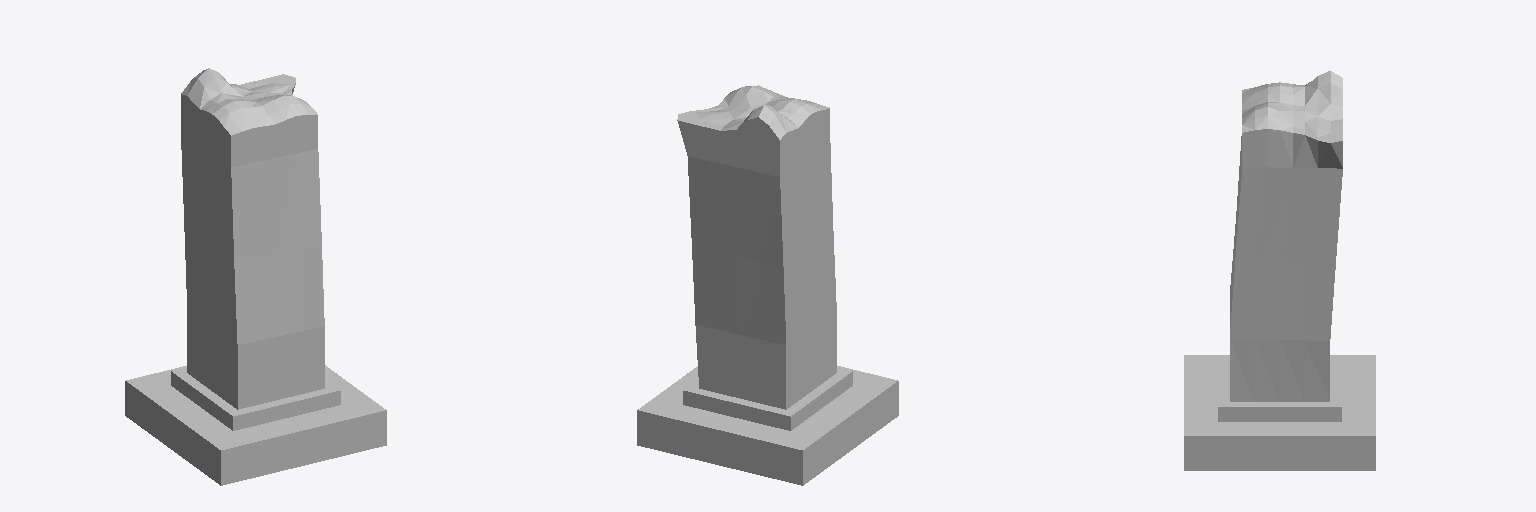
File: Pillar_BrokenMed_Blockour.obj
The picture shows the model from 3 angles: view 1: azimuth 30°, elevation 25°; view 2: azimuth 150°, elevation 25°; view 3: azimuth 270°, elevation 25°; orthographic projection.
Visible parts, largest first — view 1: Pillar_BrokenMed_Low; view 2: Pillar_BrokenMed_Low; view 3: Pillar_BrokenMed_Low.
Boxes of the visible parts, x1=… form: Pillar_BrokenMed_Low: x1=125, y1=68, x2=386, y2=485; Pillar_BrokenMed_Low: x1=637, y1=85, x2=898, y2=485; Pillar_BrokenMed_Low: x1=1184, y1=71, x2=1375, y2=470.
Size of the model in its own units: 140 by 282 by 140.